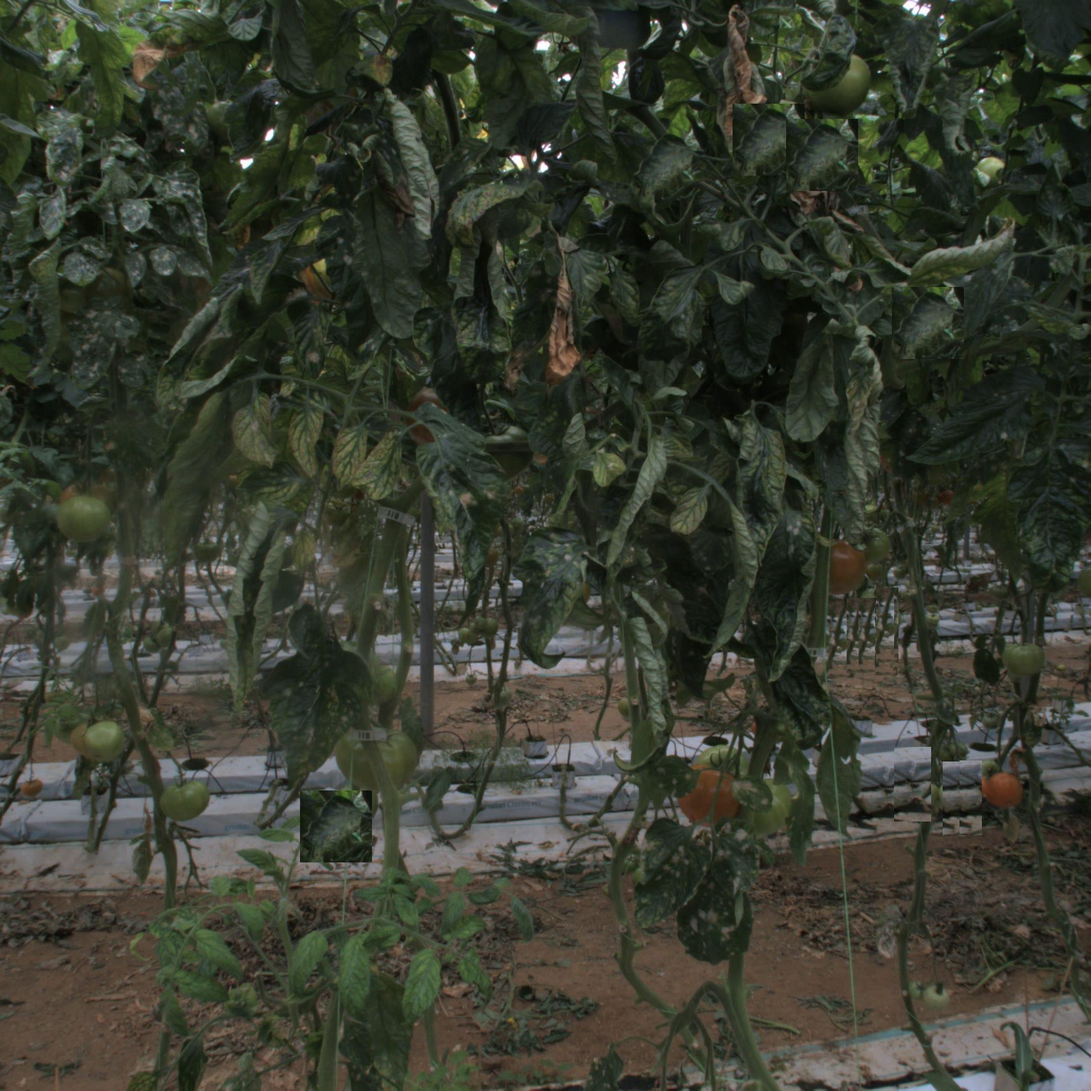fully-ripe: (681, 768, 738, 825), (818, 547, 866, 595), (985, 770, 1024, 810)
unripe: (335, 712, 418, 795), (805, 48, 871, 113), (735, 778, 792, 835), (162, 773, 210, 821), (61, 493, 109, 541), (1004, 638, 1043, 678), (85, 723, 124, 762)
